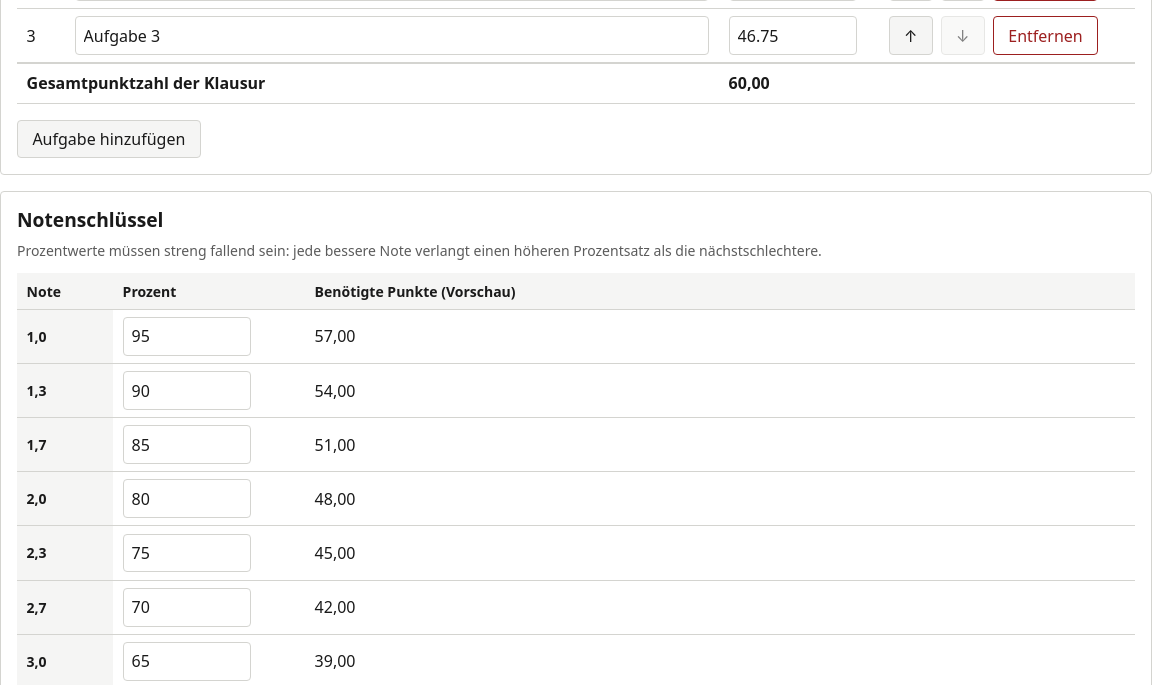
Test: ExamDetailPage — grading preview › recomputes the threshold from typed German input without a float
(page scrolled)
Replace the text in the field named "Prozentwert für Note 1,0" with "62,5" at point(187, 336), box [123, 317, 251, 356]
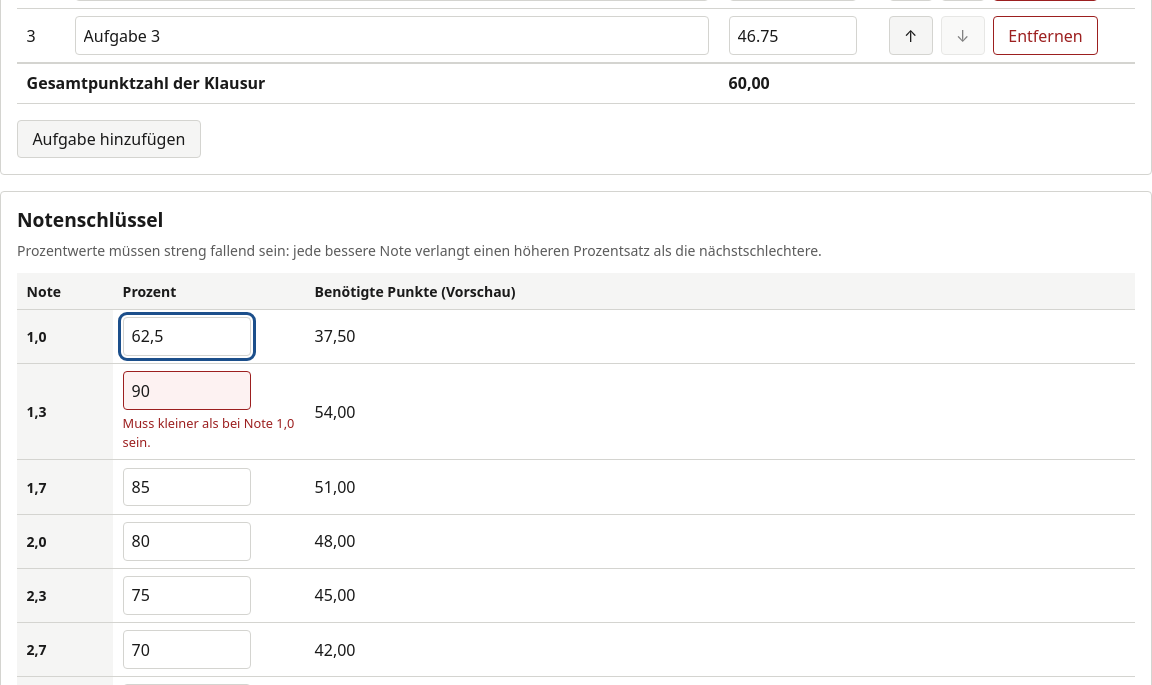
Check: the cell with test id "threshold-1.0" reads "37,50", box [315, 325, 356, 347]
